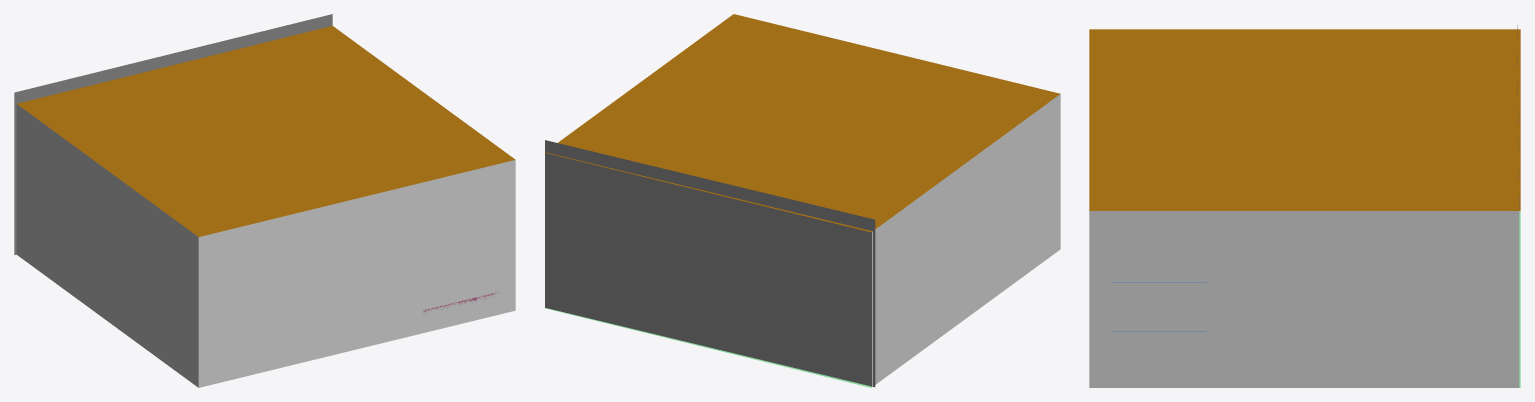
Rendered from garage.FBX.
3 views of the same model, side by side, from view 1: azimuth 30°, elevation 25°; view 2: azimuth 150°, elevation 25°; view 3: azimuth 270°, elevation 25° (orthographic). The views are drawn at different scales.
Visible parts, largest first — view 1: Plane007, Plane004, Plane005, Plane009; view 2: Plane007, Plane009, Plane005, Plane008; view 3: Plane007, Plane006.
Part boxes in pixels (x1,y1,x2,y2): Plane007: (17, 26, 515, 236); Plane004: (198, 160, 515, 387); Plane005: (16, 104, 198, 387); Plane009: (14, 14, 332, 254); Plane007: (545, 14, 1060, 232); Plane009: (545, 140, 875, 387); Plane005: (872, 94, 1060, 386); Plane008: (544, 308, 871, 387); Plane007: (1089, 29, 1520, 210); Plane006: (1089, 211, 1519, 387).
Size of the model in its own units: 839 by 416 by 835.
